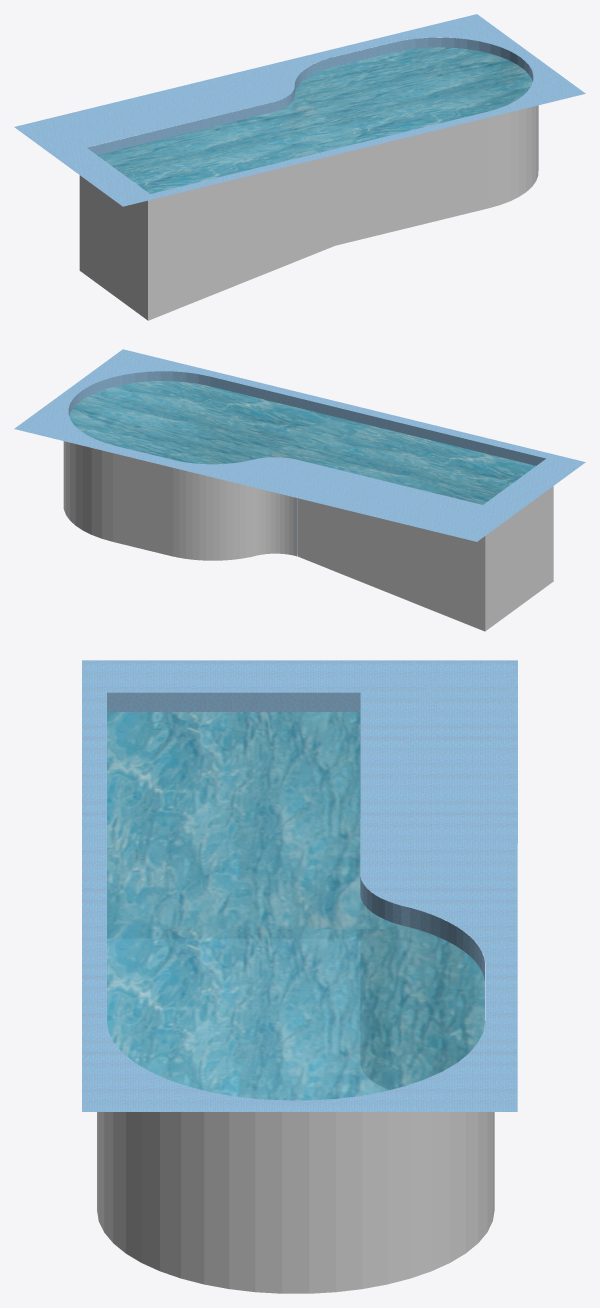
The model's file is sweethome3d-contributions-swimming-pool-348.glb.
The picture shows the model from 3 angles, top to bottom: view 1: azimuth 30°, elevation 25°; view 2: azimuth 150°, elevation 25°; view 3: azimuth 270°, elevation 25°; orthographic projection. The views are drawn at different scales.
Visible parts, largest first — view 1: room_1_49_49_49_49_49, wall_6_32_32_32_32_32, room_1_1_1_51_50_50_1_1.004, wall_5_27_27_27_27_27, wall_1_5_5_5_5_5, wall_4_23_23_23_23_23, wall_6_33_33_33_33_33, wall_2_11_11_11_11_11, wall_1_2_2_2_2_2, wall_3_17_17_17_17_17, wall_8_47_47_47_47_47; view 2: room_1_1_1_51_50_50_1_1.004, room_1_49_49_49_49_49, wall_4_20_20_20_20_20, wall_7_41_41_41_41_41, wall_1_5_5_5_5_5, wall_6_33_33_33_33_33, wall_3_14_14_14_14_14, wall_2_8_8_8_8_8, wall_1_2_2_2_2_2, wall_8_44_44_44_44_44; view 3: room_1_49_49_49_49_49, room_1_1_1_51_50_50_1_1.004, wall_1_2_2_2_2_2, wall_5_29_29_29_29_29, room_1_1_1_52_51_51, wall_3_17_17_17_17_17, wall_8_47_47_47_47_47, room_2_2_2_53_52_52.001.
Boxes of the visible parts, bbox=[...] form: room_1_49_49_49_49_49: bbox=[97, 47, 532, 193]; wall_6_32_32_32_32_32: bbox=[148, 155, 335, 320]; room_1_1_1_51_50_50_1_1.004: bbox=[14, 14, 585, 206]; wall_5_27_27_27_27_27: bbox=[335, 117, 488, 245]; wall_1_5_5_5_5_5: bbox=[392, 37, 533, 134]; wall_4_23_23_23_23_23: bbox=[87, 103, 269, 193]; wall_6_33_33_33_33_33: bbox=[79, 175, 147, 320]; wall_2_11_11_11_11_11: bbox=[332, 43, 391, 149]; wall_1_2_2_2_2_2: bbox=[489, 105, 538, 207]; wall_3_17_17_17_17_17: bbox=[294, 57, 331, 158]; wall_8_47_47_47_47_47: bbox=[269, 88, 294, 164]; room_1_1_1_51_50_50_1_1.004: bbox=[14, 349, 585, 541]; room_1_49_49_49_49_49: bbox=[69, 381, 535, 504]; wall_4_20_20_20_20_20: bbox=[298, 498, 485, 631]; wall_7_41_41_41_41_41: bbox=[210, 376, 363, 475]; wall_1_5_5_5_5_5: bbox=[68, 371, 210, 463]; wall_6_33_33_33_33_33: bbox=[485, 486, 553, 630]; wall_3_14_14_14_14_14: bbox=[173, 468, 252, 560]; wall_2_8_8_8_8_8: bbox=[113, 453, 173, 556]; wall_1_2_2_2_2_2: bbox=[63, 441, 112, 541]; wall_8_44_44_44_44_44: bbox=[252, 487, 297, 556]; room_1_49_49_49_49_49: bbox=[107, 712, 484, 1100]; room_1_1_1_51_50_50_1_1.004: bbox=[82, 660, 517, 1111]; wall_1_2_2_2_2_2: bbox=[97, 1112, 494, 1293]; wall_5_29_29_29_29_29: bbox=[107, 692, 360, 938]; room_1_1_1_52_51_51: bbox=[107, 939, 359, 1058]; wall_3_17_17_17_17_17: bbox=[410, 908, 484, 1083]; wall_8_47_47_47_47_47: bbox=[360, 877, 409, 1089]; room_2_2_2_53_52_52.001: bbox=[131, 1059, 387, 1100].
Bounding box in the file's own units: 832 × 213 × 339.
Materials: 3 (2 with a texture image).
